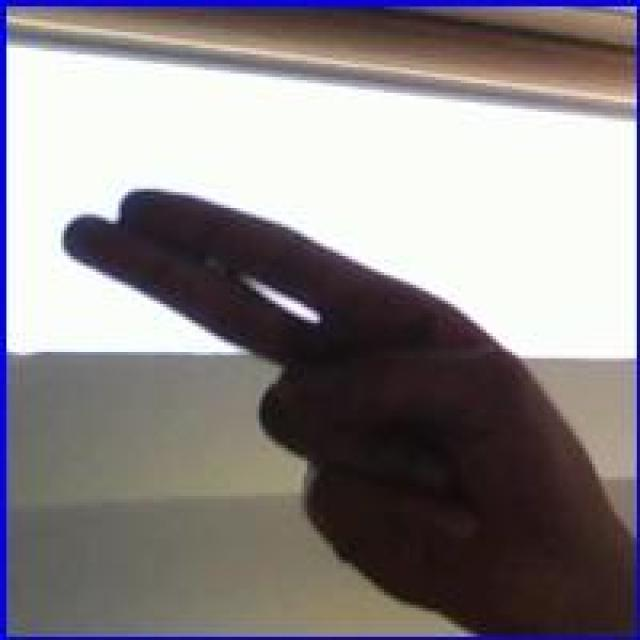H: (56, 182, 613, 624)
